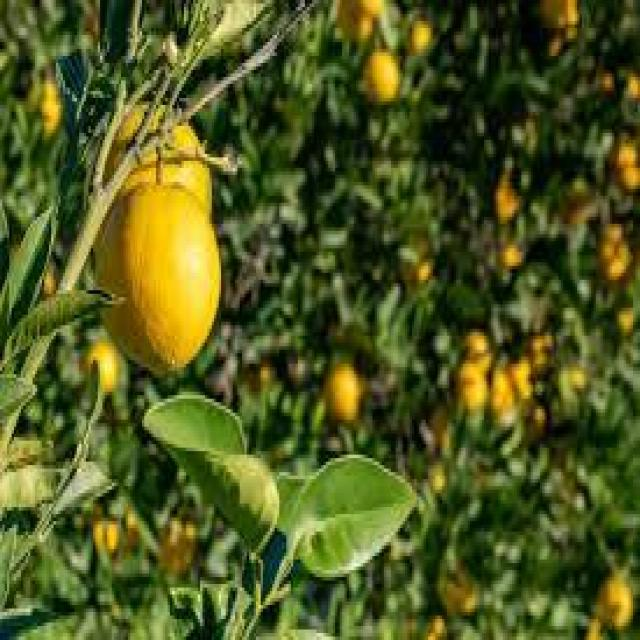fruit: (95, 180, 220, 372), (98, 88, 218, 243), (158, 515, 198, 576), (322, 362, 362, 422), (593, 573, 633, 630), (596, 223, 633, 283), (83, 339, 121, 394), (362, 50, 401, 103), (439, 568, 478, 618), (335, 0, 380, 42), (456, 358, 490, 411), (557, 182, 595, 228), (608, 139, 640, 193), (489, 366, 519, 414), (539, 0, 578, 31), (558, 364, 588, 404), (524, 331, 554, 371), (92, 516, 122, 556), (507, 358, 534, 400), (426, 404, 451, 448), (461, 328, 491, 364), (408, 18, 434, 54), (24, 72, 46, 114), (525, 402, 548, 440), (498, 239, 524, 272), (406, 230, 432, 262), (122, 508, 142, 548), (286, 354, 309, 388), (497, 190, 519, 220), (428, 463, 448, 495), (412, 256, 434, 285), (616, 305, 636, 336), (43, 96, 61, 130), (621, 71, 640, 103), (41, 265, 58, 298), (598, 69, 616, 96), (547, 34, 565, 59), (629, 236, 640, 276), (584, 616, 602, 640)
